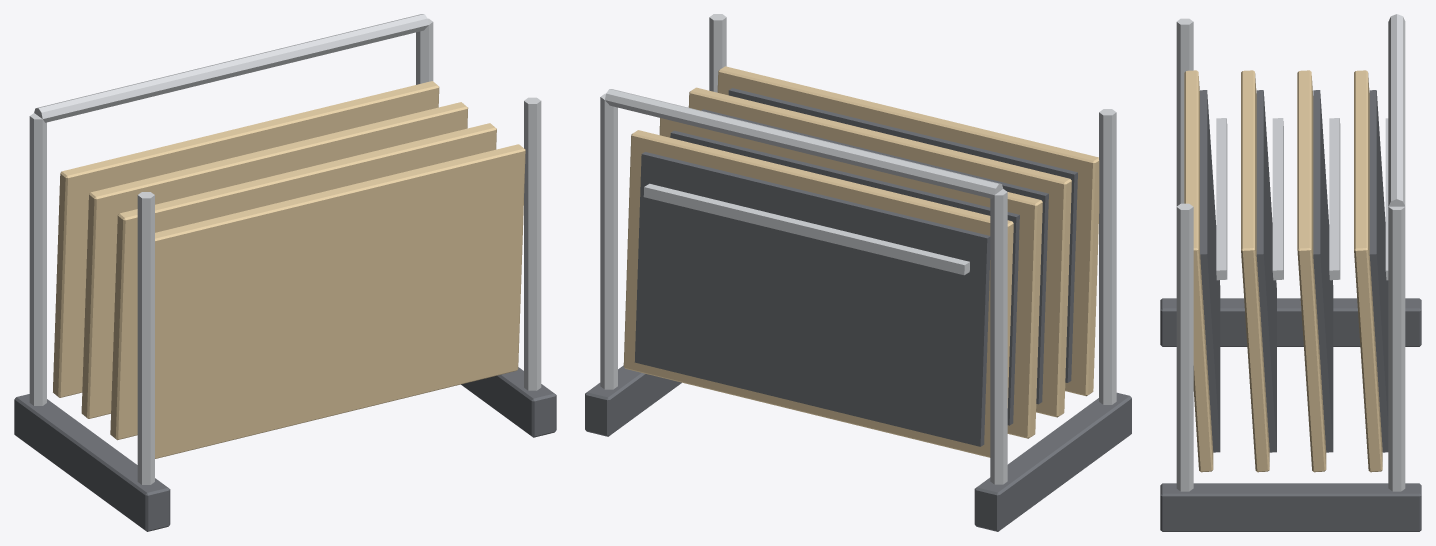
File: community-sports-hall-and-changing-rooms-folding-table-b0d6b4a5__35128.glb
The picture shows the model from 3 angles, left to right: view 1: azimuth 30°, elevation 25°; view 2: azimuth 150°, elevation 25°; view 3: azimuth 270°, elevation 25°; orthographic projection. The views are drawn at different scales.
Visible parts, largest first — view 1: folding-table-stack; view 2: folding-table-stack; view 3: folding-table-stack.
Boxes of the visible parts, <box> form: folding-table-stack: <box>14,14,556,531</box>; folding-table-stack: <box>585,14,1131,531</box>; folding-table-stack: <box>1160,14,1421,531</box>.
Size of the model in its own units: 1.32 by 1.02 by 0.74.
